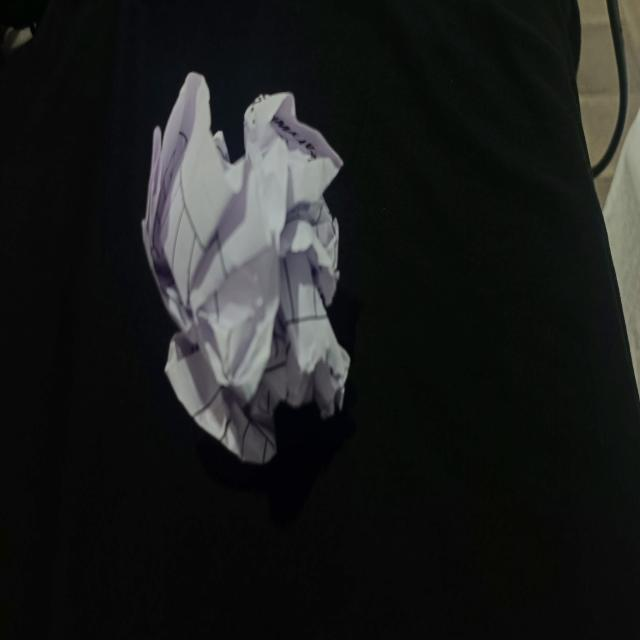PaperBall: (142, 73, 348, 460)
